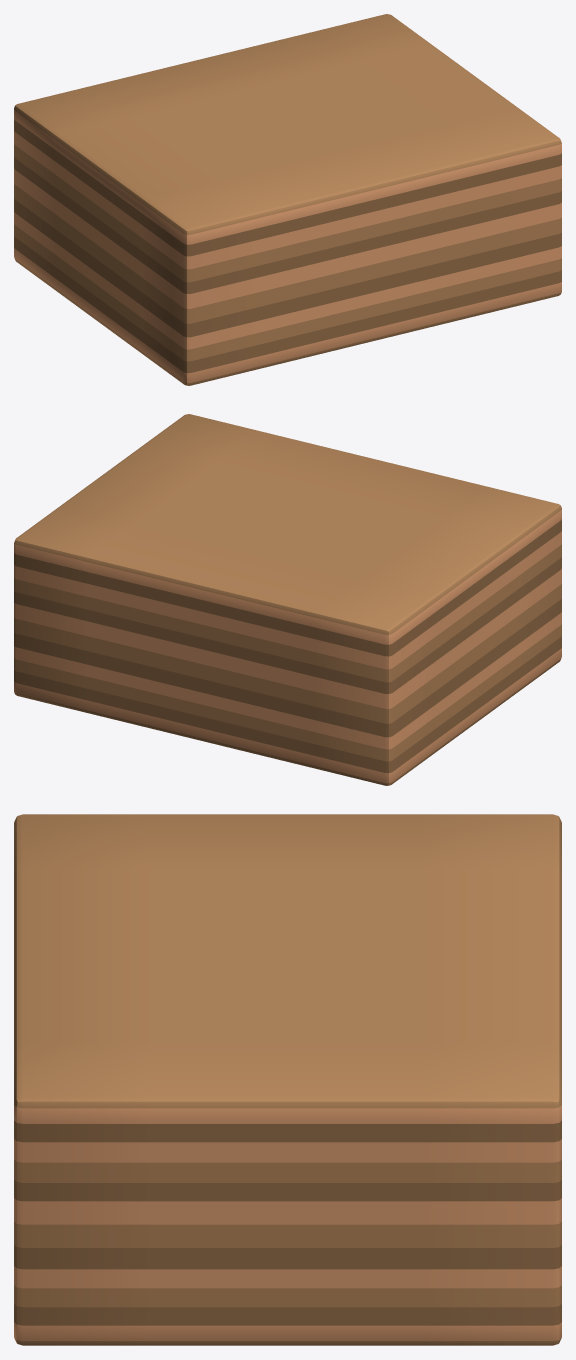
The model's file is Cube_Grass_CornerBottom_Tall.021.fbx.
3 renders of one model, top to bottom at view 1: azimuth 30°, elevation 25°; view 2: azimuth 150°, elevation 25°; view 3: azimuth 270°, elevation 25°, orthographic. The views are drawn at different scales.
Visible parts, largest first — view 1: Cube_Grass_CornerBottom_Tall.021; view 2: Cube_Grass_CornerBottom_Tall.021; view 3: Cube_Grass_CornerBottom_Tall.021.
Boxes of the visible parts, x1,y1,x2,y2 form: Cube_Grass_CornerBottom_Tall.021: (14, 14, 561, 385); Cube_Grass_CornerBottom_Tall.021: (14, 414, 561, 785); Cube_Grass_CornerBottom_Tall.021: (14, 814, 561, 1345).
Size of the model in its own units: 1000 by 400 by 800.
